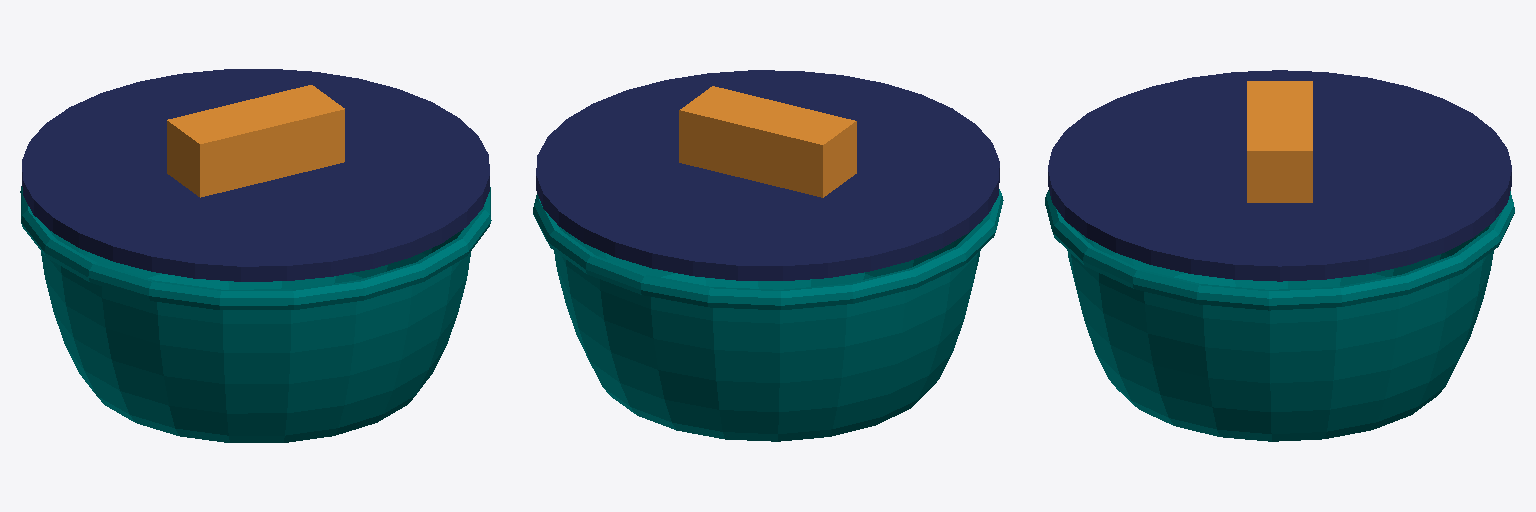
The robot description file, URDF, robot "bowl.urdf":
<?xml version="0.0" ?>
<robot name="bowl.urdf">

  <material name="yellow">
    <color rgba="1 1 0.4 1"/>
  </material>
  <material name="red">
    <color rgba="1 0 0 1"/>
  </material>
  <material name="blue">
    <color rgba=".17 .20 .38 1"/>
  </material>
  <material name="teal">
    <color rgba="0 .5 .5 1"/>
  </material>
  <material name="orange">
    <color rgba=".93 .6 .23 1"/>
  </material>

  <link name="world"/>

  <link name="base">
<!--     <contact>
      <lateral_friction value="1.0"/>
      <rolling_friction value="0.0"/>
      <contact_cfm value="0.0"/>
      <contact_erp value="1.0"/>
    </contact> -->
    <inertial>
      <origin rpy="0 0 0" xyz="0.0 0.0 0.0"/>
       <mass value=".1"/>
       <inertia ixx="1" ixy="0" ixz="0" iyy="1" iyz="0" izz="1"/>
    </inertial>
    <visual>
      <origin rpy="0 0 0" xyz="0 0 0"/>
      <geometry>
        <!-- <box size="1 1 1"/> -->
        <mesh filename="roboverse/envs/assets/objects/bowl/base.dae" scale=".7 .7 .7"/>
      </geometry>
       <material name="teal"/>
    </visual>
    <collision>
      <origin rpy="0 0 0" xyz="0 0 -.3"/>
      <geometry>
	 			<box size="1.2 1.2 .1"/>
      </geometry>
    </collision>
    <collision>
      <!-- right -->
      <origin rpy="0 0 0" xyz="0 -.45 0"/>
      <geometry>
        <box size="1 .05 .5"/>
      </geometry>
    </collision>
    <collision>
      <!-- left -->
      <origin rpy="0 0 0" xyz="0 .45 0"/>
      <geometry>
        <box size="1 .05 .5"/>
      </geometry>
    </collision>
    <collision>
      <!-- front -->
      <origin rpy="0 0 0" xyz=".45 0 0"/>
      <geometry>
        <box size=".05 1 .5"/>
      </geometry>
    </collision>
    <collision>
      <!-- back -->
      <origin rpy="0 0 0" xyz="-.45 0 0"/>
      <geometry>
        <box size=".05 1 .5"/>
      </geometry>
    </collision>
  </link>

  <link name="lid">
    <lateral_friction value="1.0"/>
    <rolling_friction value="0.0"/>
    <contact_cfm value="0.0"/>
    <contact_erp value="1.0"/>
    <inertial>
      <origin rpy="0 0 0" xyz="0.0 0.0 0.0"/>
       <mass value=".25"/>
       <inertia ixx="1" ixy="0" ixz="0" iyy="1" iyz="0" izz="1"/>
    </inertial>
    <visual>
      <origin rpy="0 0 0" xyz="0 0 0"/>
      <geometry>
        <cylinder radius="0.7" length=".05"/>
      </geometry>
       <material name="blue"/>
    </visual>
    <collision>
      <origin rpy="0 0 0" xyz="0 0 0"/>
      <geometry>
        <cylinder radius="0.7" length=".05"/>
      </geometry>
    </collision>
  </link>

  <link name="handle">
    <lateral_friction value="1.0"/>
    <rolling_friction value="0.0"/>
    <contact_cfm value="0.0"/>
    <contact_erp value="1.0"/>
    <inertial>
      <origin rpy="0 0 0" xyz="0.0 0.0 0.0"/>
       <mass value=".1"/>
       <inertia ixx="1" ixy="0" ixz="0" iyy="1" iyz="0" izz="1"/>
    </inertial>
    <visual>
      <origin rpy="0 0 0" xyz="0 0 0"/>
      <geometry>
        <box size="0.5 0.2 .2"/>
      </geometry>
       <material name="orange"/>
    </visual>
    <collision>
      <origin rpy="0 0 0" xyz="0 0 0"/>
      <geometry>
        <box size="0.5 0.2 .2"/>
      </geometry>
    </collision>
  </link>

  <joint name="base_joint" type="fixed">
    <parent link="world"/>
    <child link="base"/>
  </joint>

  <joint name="lid_joint" type="prismatic">
    <origin rpy="0 0 0" xyz="0 0 0.35"/>
    <parent link="base"/>
    <child link="lid"/>
    <axis xyz="0 1 0"/>
    <limit effort="100" lower="0" upper="1" velocity="100"/>
  </joint>

  <joint name="handle_joint" type="fixed">
    <origin rpy="0 0 0" xyz="0 0 0.1"/>
    <parent link="lid"/>
    <child link="handle"/>
  </joint>

</robot>

--- Render facts (derived) ---
3 views of the same robot in one strip: view 1: azimuth 30°, elevation 25°; view 2: azimuth 150°, elevation 25°; view 3: azimuth 270°, elevation 25° (orthographic).
Model bowl.urdf with 4 links and 3 joints (1 prismatic, 2 fixed), rooted at world, posed every joint at zero.
Visible links, largest first — view 1: lid, base, handle; view 2: lid, base, handle; view 3: lid, base, handle.
Boxes of the visible links, box(x1,y1,x2,y2) form: lid: box(22, 69, 489, 281); base: box(20, 186, 491, 442); handle: box(167, 85, 344, 197); lid: box(536, 70, 999, 280); base: box(533, 189, 1003, 441); handle: box(679, 86, 856, 197); lid: box(1048, 70, 1511, 281); base: box(1045, 190, 1514, 441); handle: box(1247, 81, 1312, 202).
Size in the robot's own frame: 1.42 by 1.42 by 0.8608 metres.
Meshes: 1 distinct files referenced, 1 mesh visuals loaded (1 Collada DAE).